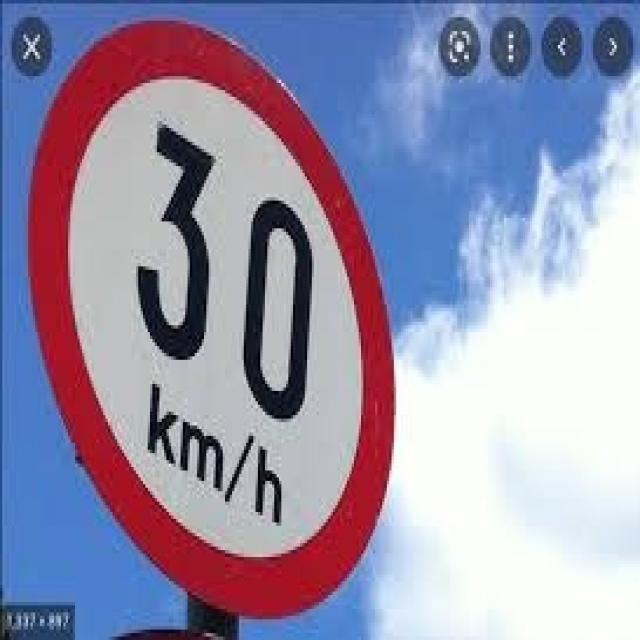speed_limit_30: (22, 14, 411, 618)
